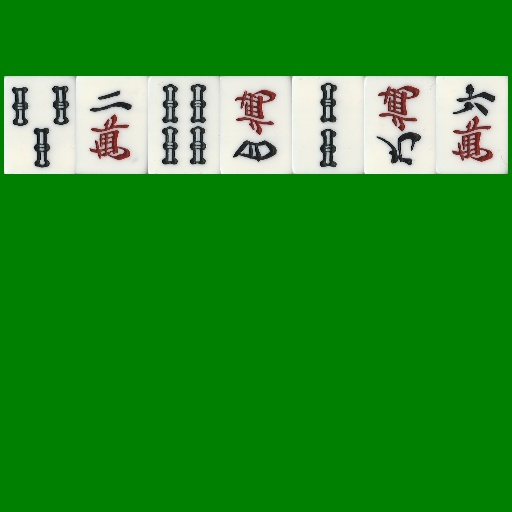2m: (76, 76, 148, 174)
2s: (292, 76, 364, 174)
3s: (4, 76, 76, 174)
4m: (220, 76, 292, 174)
4s: (148, 76, 220, 174)
6m: (436, 76, 508, 174)
9m: (364, 76, 436, 174)
